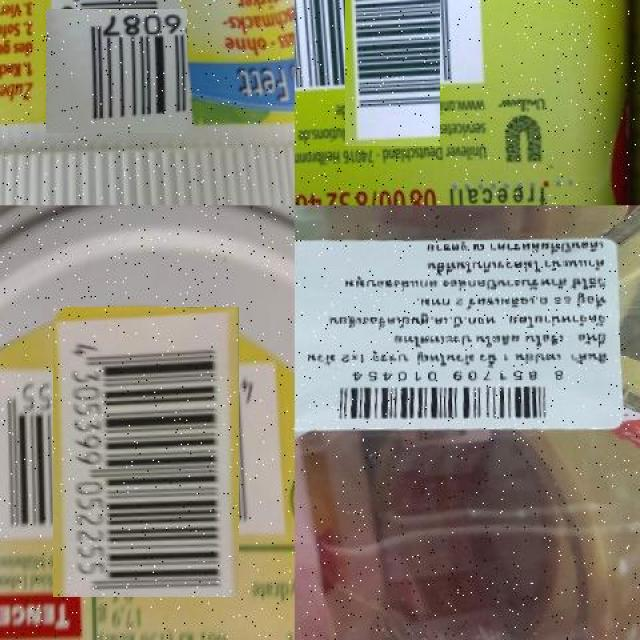Barcode: (26, 333, 265, 571), (50, 4, 184, 138), (320, 0, 466, 121), (327, 363, 573, 429)
